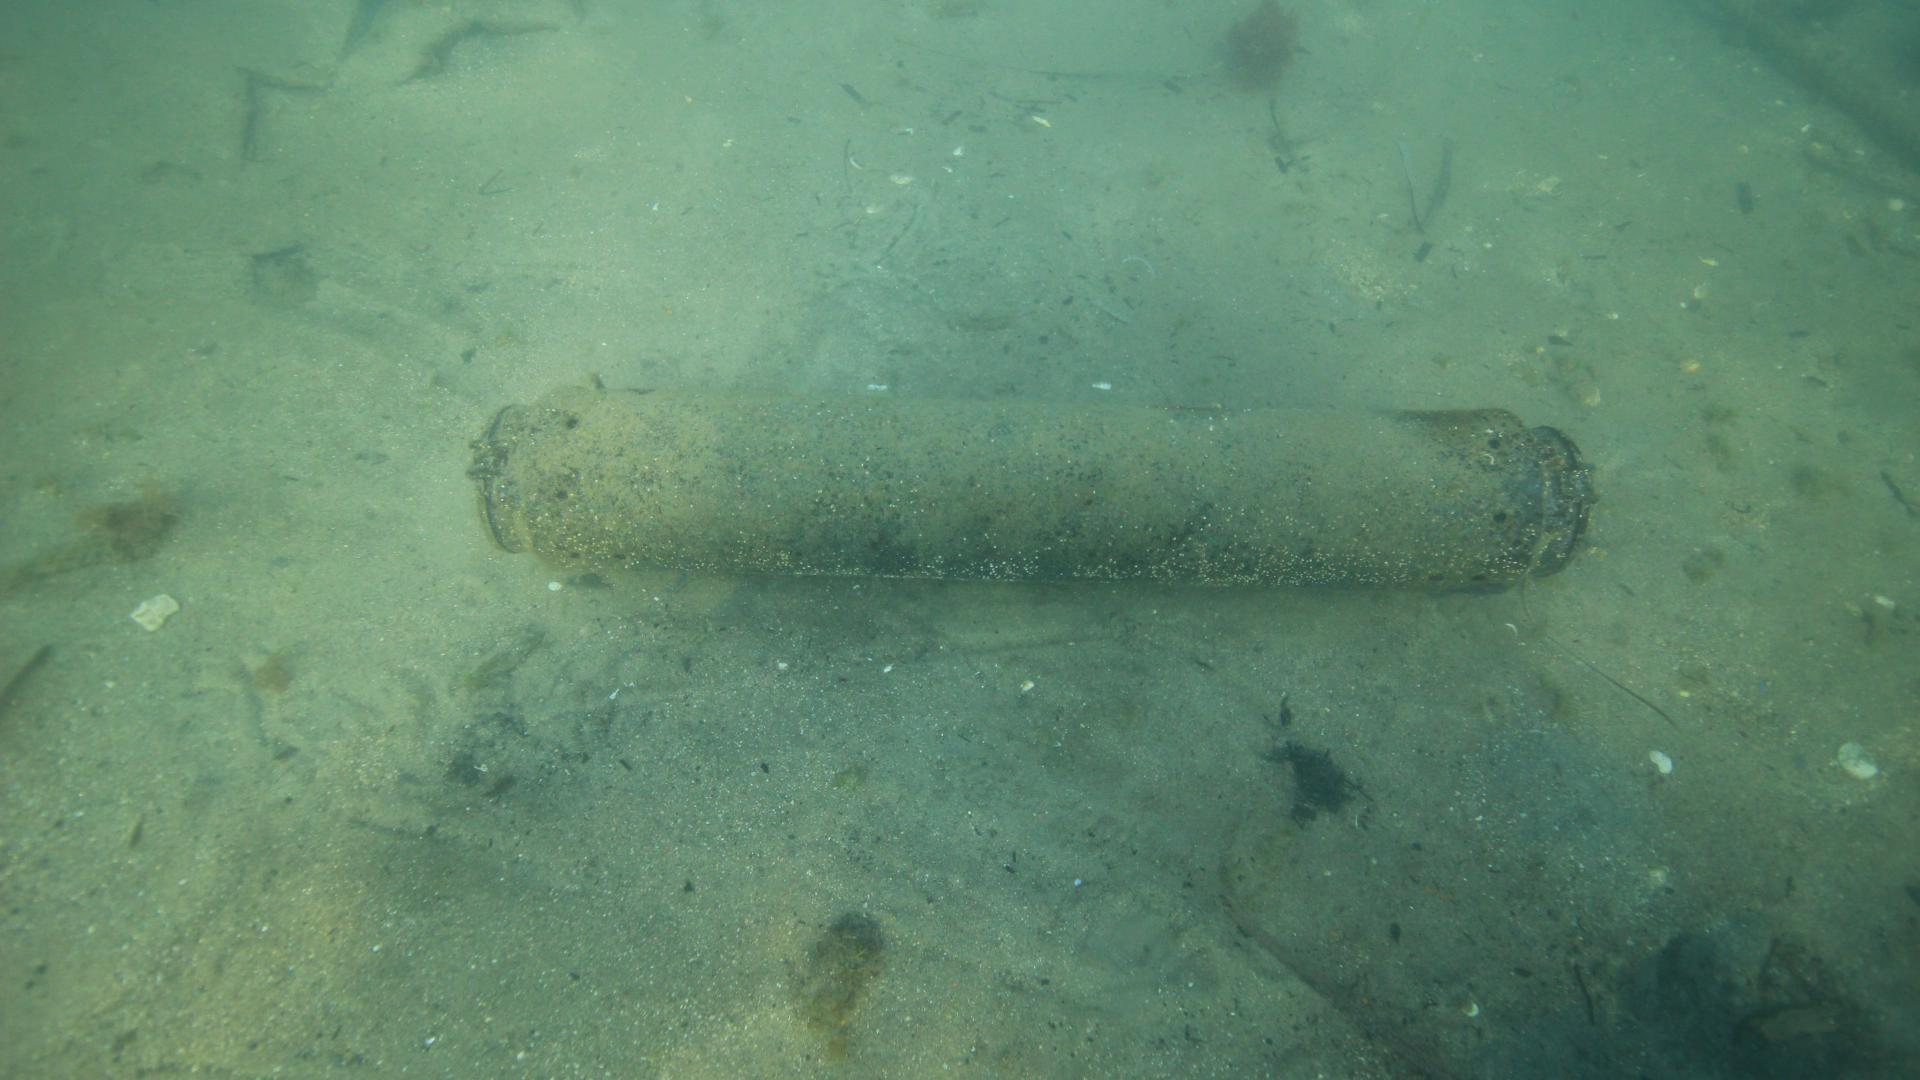eel fish trap: (465, 380, 1615, 595)
